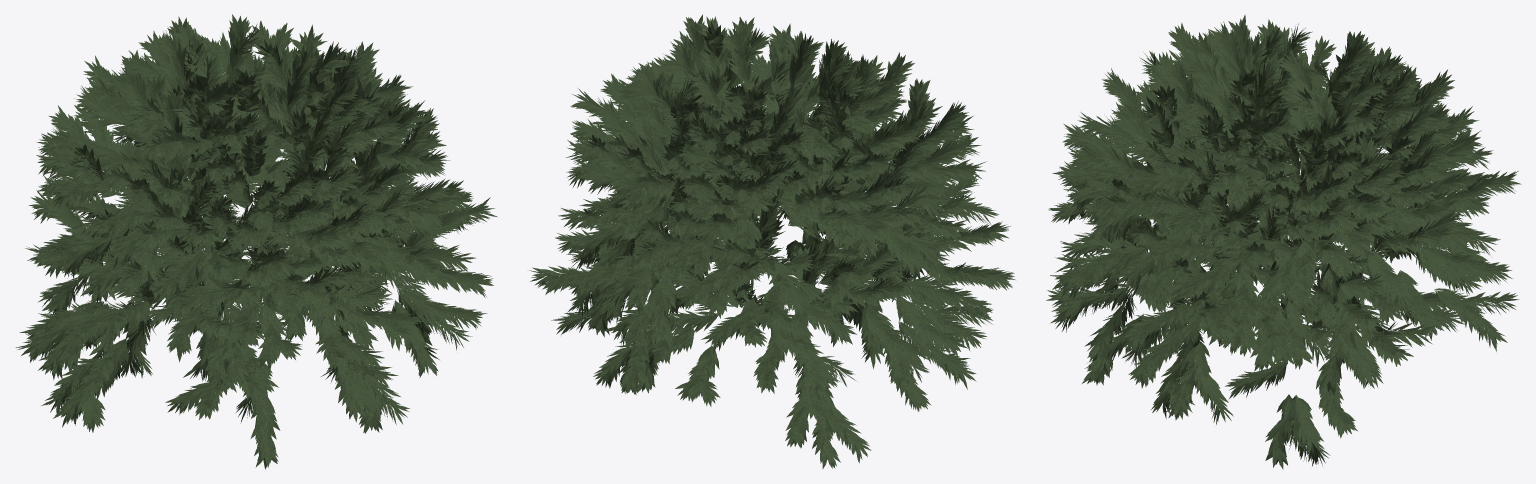
The model's file is arbusto.glb.
3 views of the same model, side by side, from view 1: azimuth 30°, elevation 25°; view 2: azimuth 150°, elevation 25°; view 3: azimuth 270°, elevation 25° (orthographic). The views are drawn at different scales.
Visible parts, largest first — view 1: leaves; view 2: leaves; view 3: leaves.
Part boxes in pixels (left/top/right/bottom): leaves: left=15, top=14, right=497, bottom=469; leaves: left=529, top=14, right=1015, bottom=469; leaves: left=1046, top=14, right=1521, bottom=469.
Size of the model in its own units: 9.14 by 7.59 by 8.77.
1 material, 1 textured.
